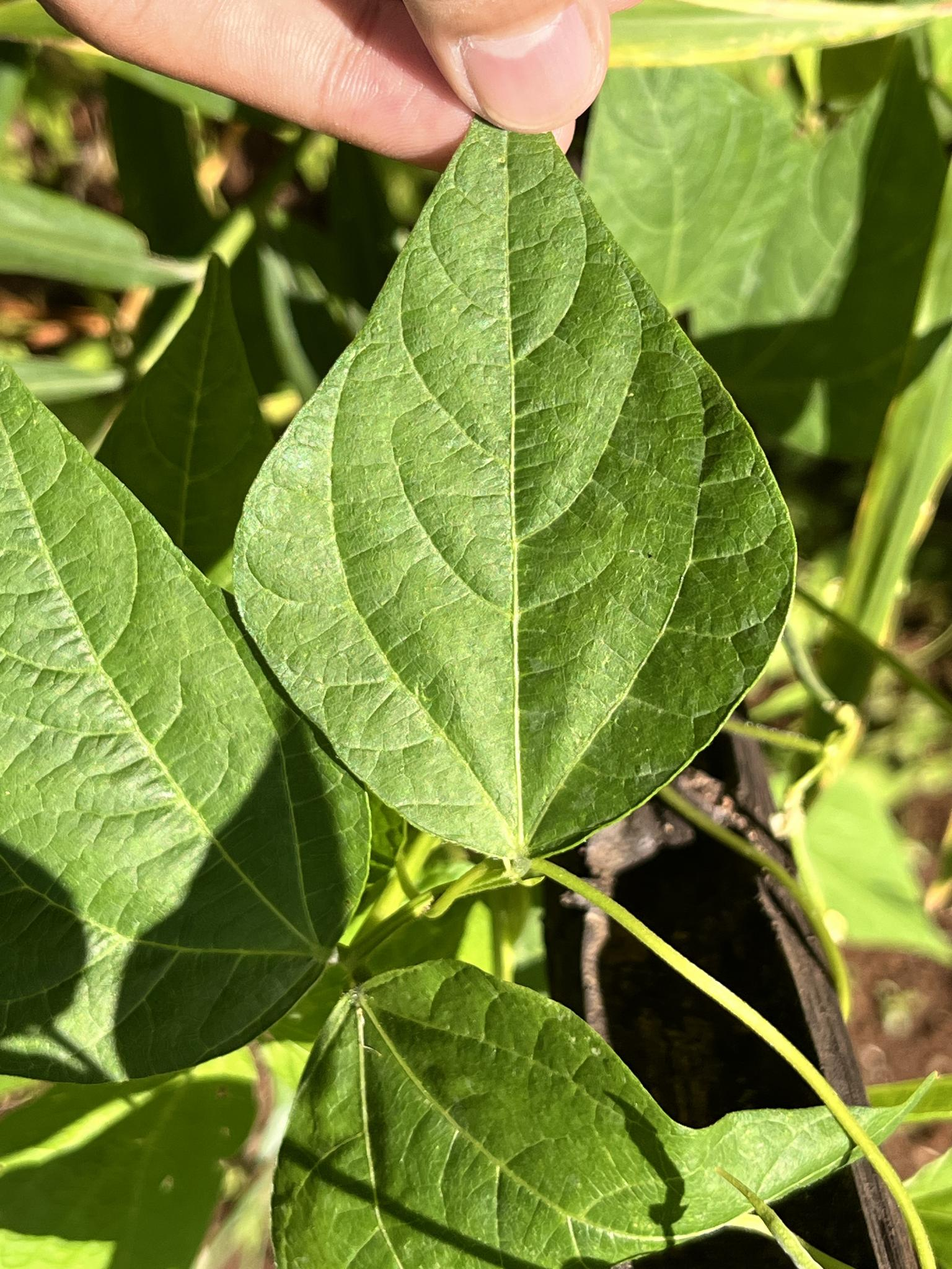sehat: (234, 111, 794, 859)
